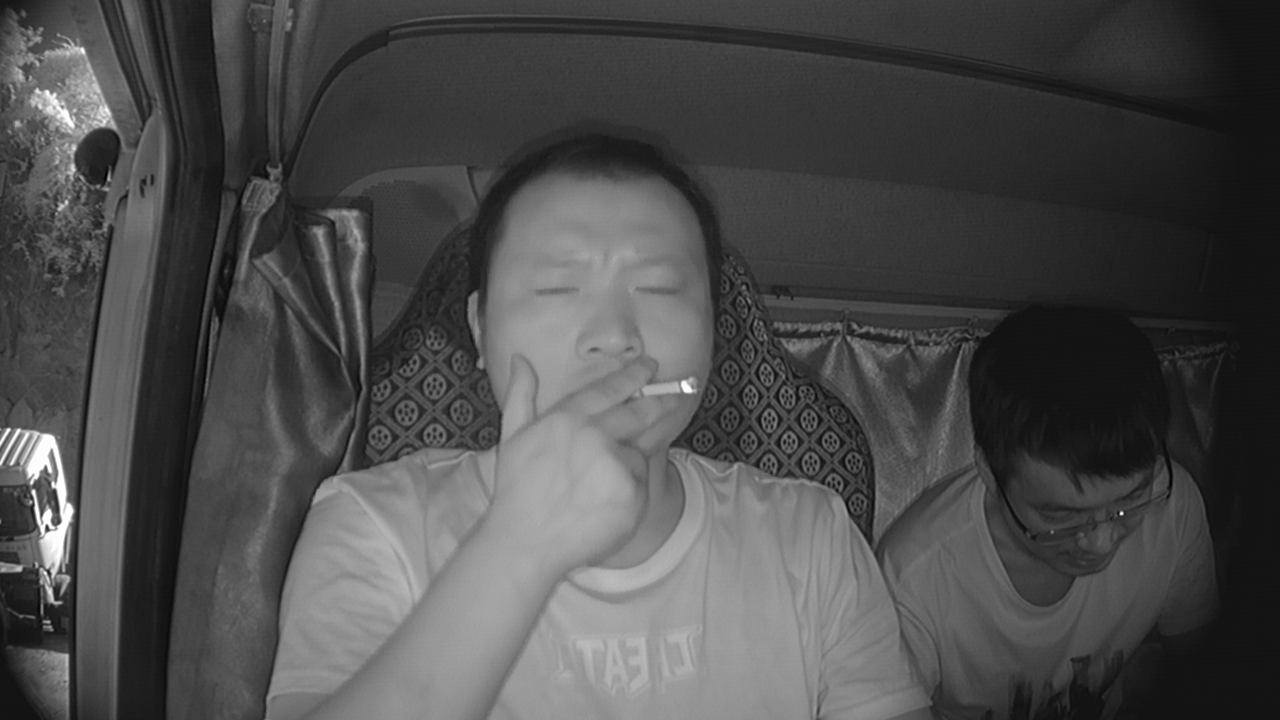hand: (539, 363, 689, 552)
